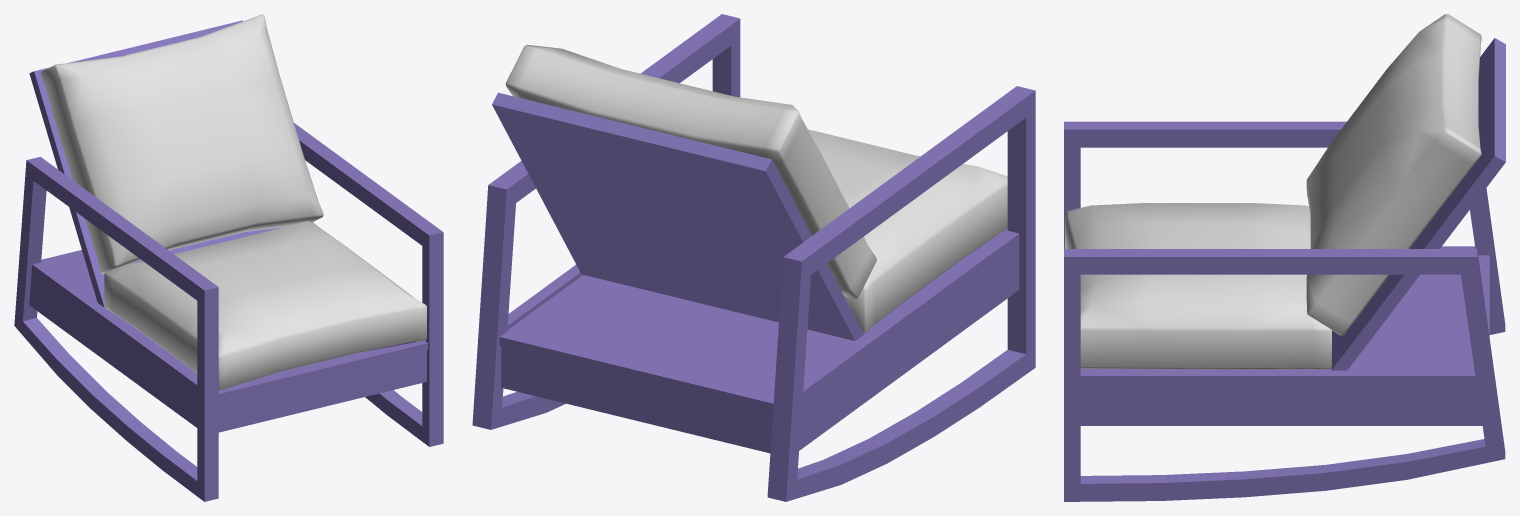
Rendered from LILLBERGRockingchair.FBX.
3 views of the same model, side by side, from view 1: azimuth 30°, elevation 25°; view 2: azimuth 150°, elevation 25°; view 3: azimuth 270°, elevation 25° (orthographic). The views are drawn at different scales.
Visible parts, largest first — view 1: LILLBERGRockingchair; view 2: LILLBERGRockingchair; view 3: LILLBERGRockingchair.
Boxes of the visible parts, box(x1,y1,x2,y2) form: LILLBERGRockingchair: box(14, 14, 443, 501); LILLBERGRockingchair: box(472, 14, 1035, 501); LILLBERGRockingchair: box(1064, 14, 1505, 501).
Size of the model in its own units: 68.02 by 93.86 by 84.91.
